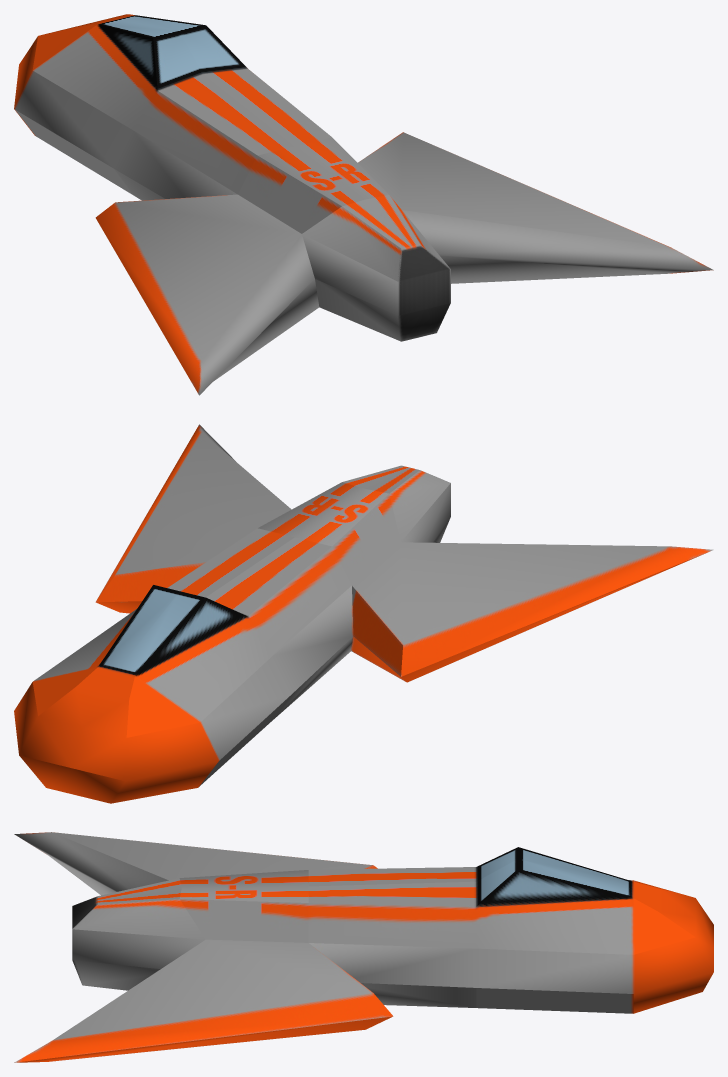
The model's file is SpeedShip.fbx.
3 renders of one model, top to bottom at view 1: azimuth 30°, elevation 25°; view 2: azimuth 150°, elevation 25°; view 3: azimuth 270°, elevation 25°, orthographic. The views are drawn at different scales.
Parts seen in each view (by area): view 1: polySurface3; view 2: polySurface3; view 3: polySurface3.
Part boxes in pixels (<box>): polySurface3: <box>14,14,713,395</box>; polySurface3: <box>14,424,713,803</box>; polySurface3: <box>14,832,713,1062</box>.
Size of the model in its own units: 15.12 by 3.66 by 19.55.
